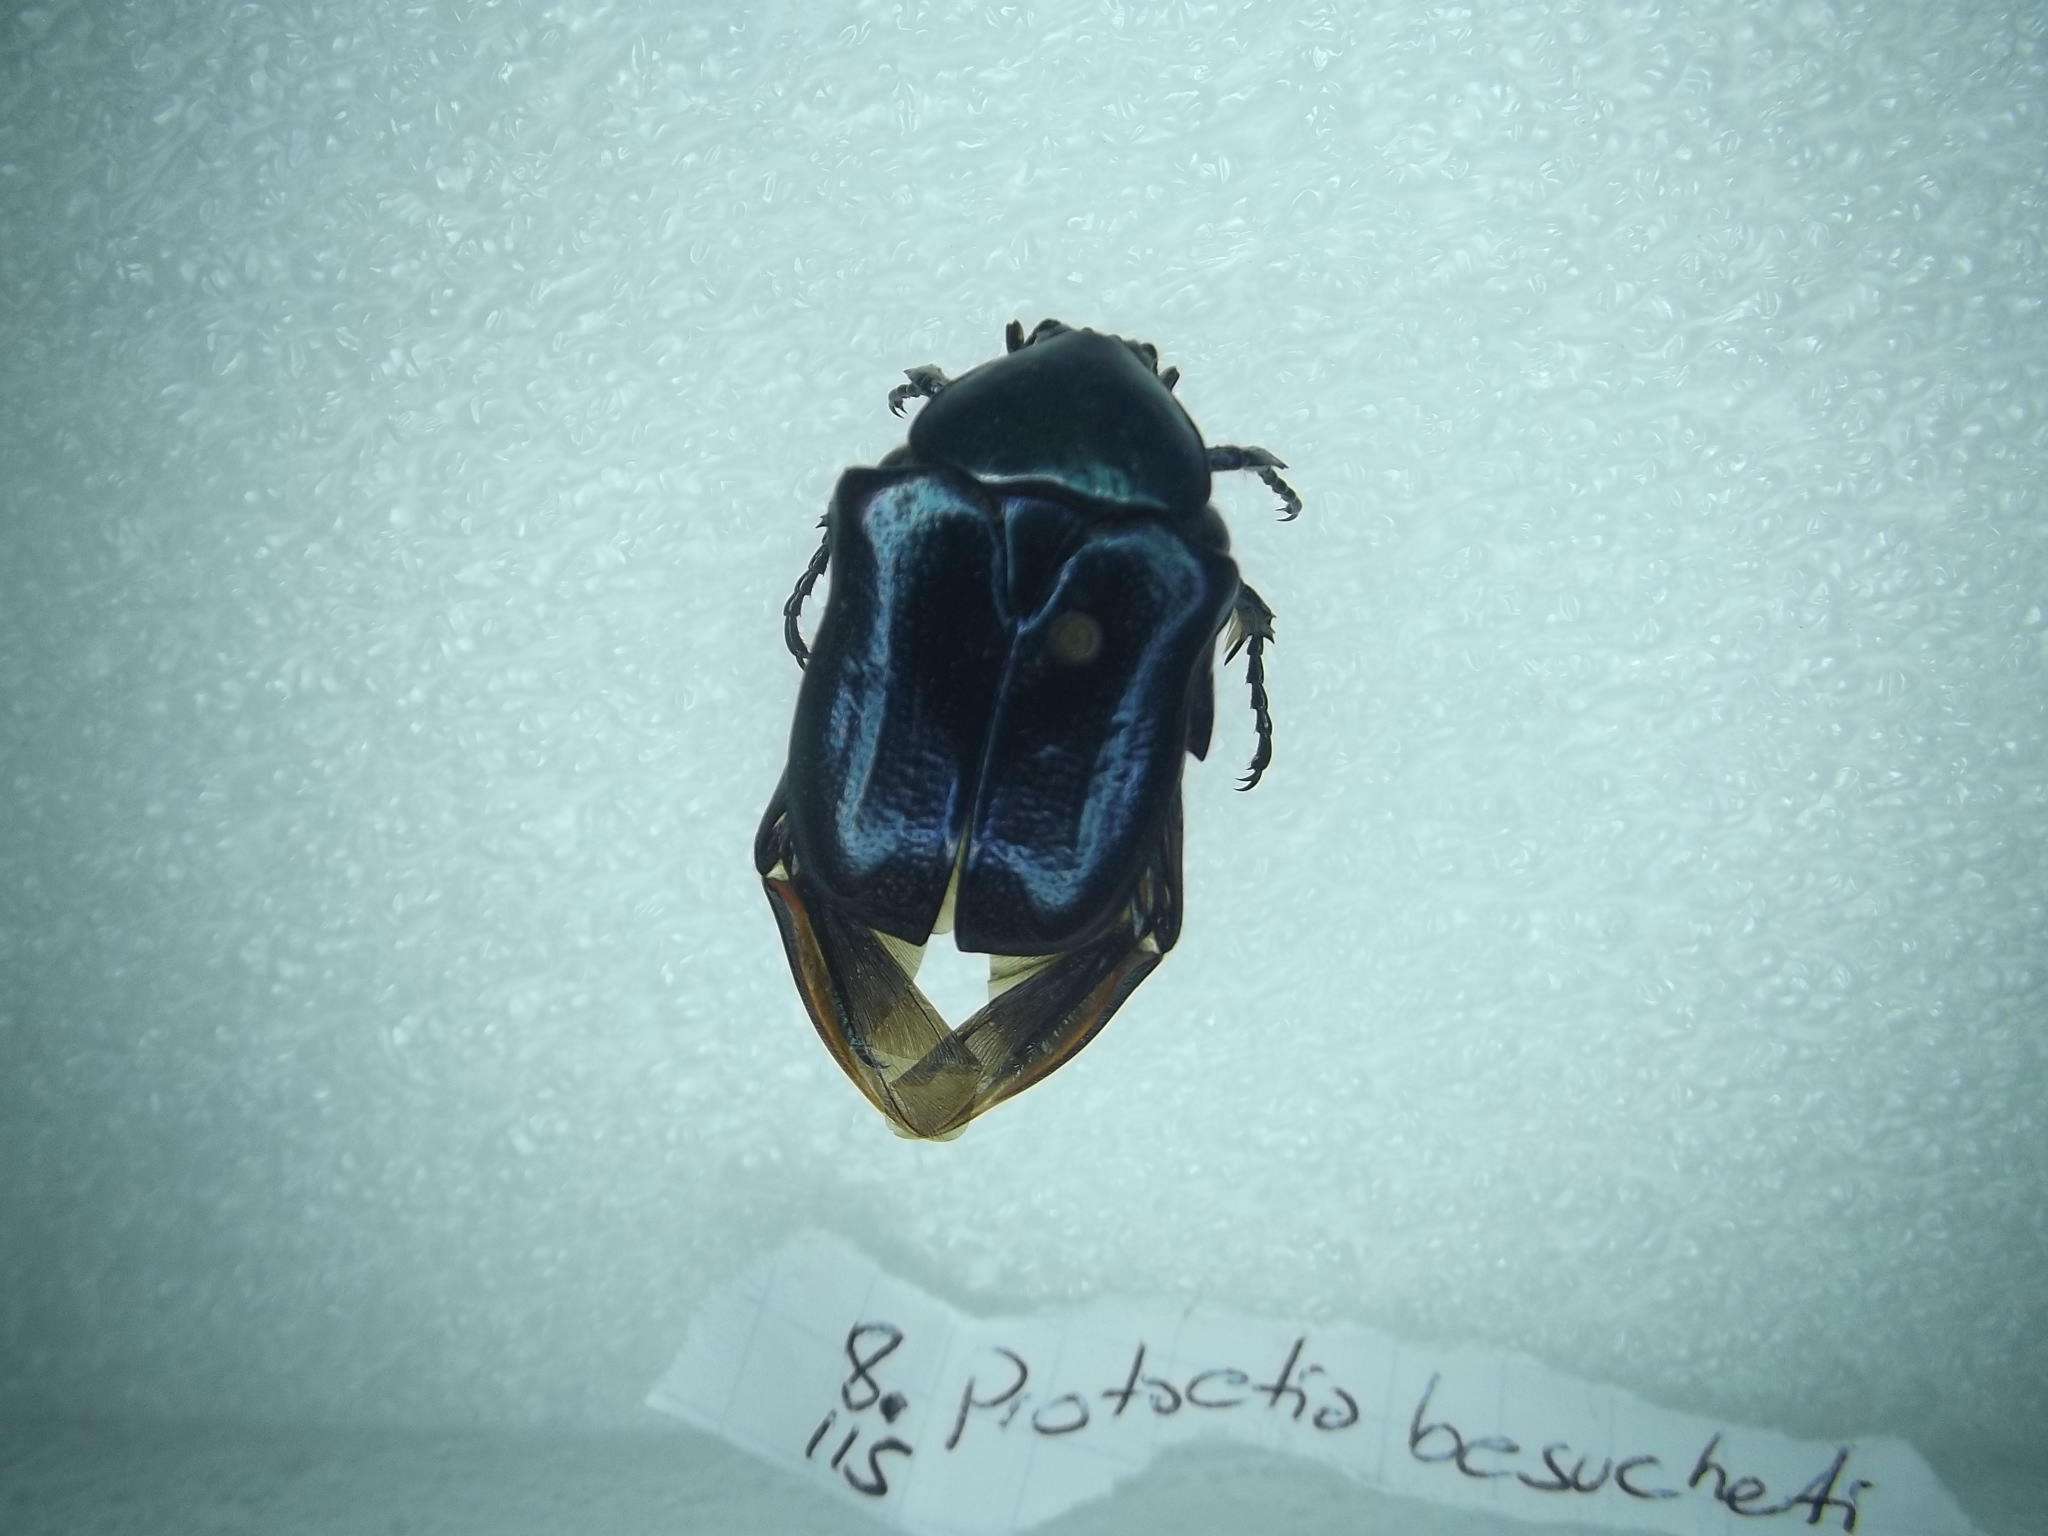Protaetia_besucheti: (739, 287, 1314, 1146)
